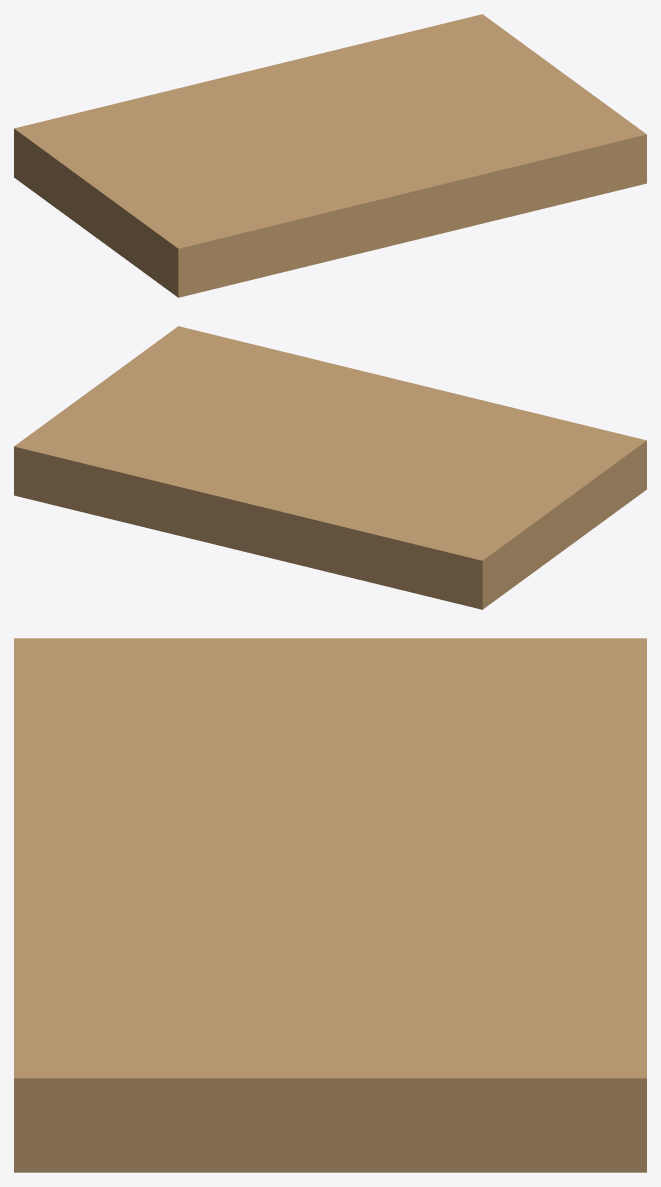
File: applebox-quarto.glb
3 views of the same model, one above another, from view 1: azimuth 30°, elevation 25°; view 2: azimuth 150°, elevation 25°; view 3: azimuth 270°, elevation 25° (orthographic). The views are drawn at different scales.
Bounding box in the file's own units: 0.51 × 0.051 × 0.31.
